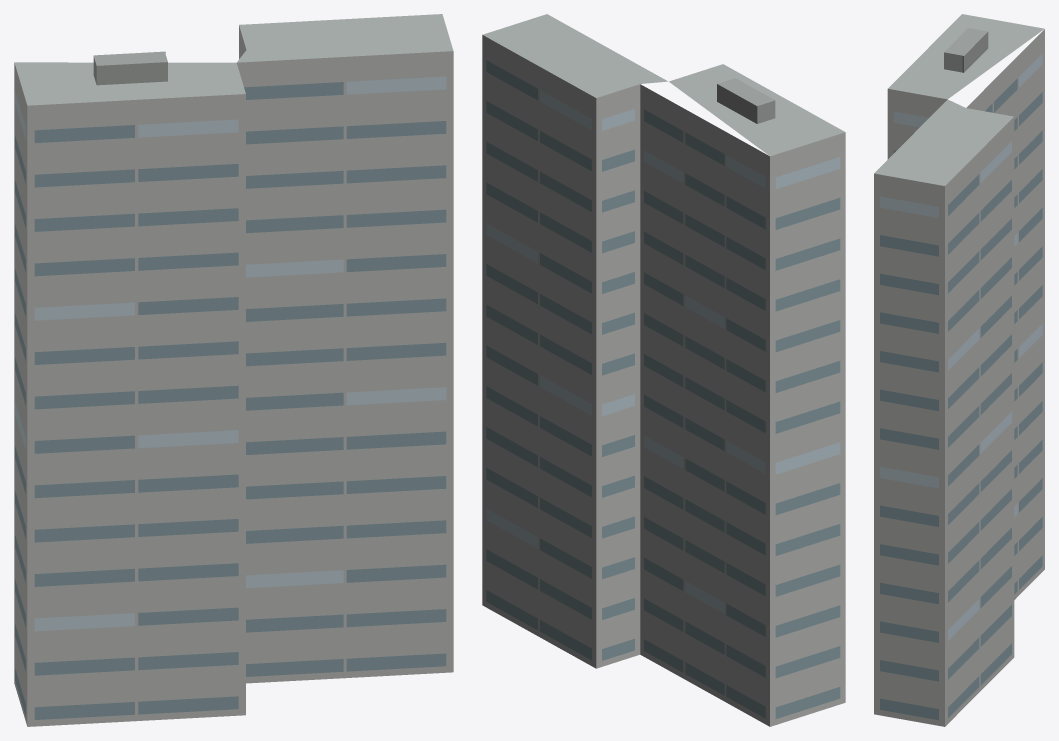
Rendered from fallback-jamsil-els-145.glb.
3 renders of one model, left to right at view 1: azimuth 30°, elevation 25°; view 2: azimuth 150°, elevation 25°; view 3: azimuth 270°, elevation 25°, orthographic. The views are drawn at different scales.
Visible parts, largest first — view 1: fallback-jamsil-els-145; view 2: fallback-jamsil-els-145; view 3: fallback-jamsil-els-145.
Boxes of the visible parts, bbox=[...] form: fallback-jamsil-els-145: bbox=[14, 14, 453, 726]; fallback-jamsil-els-145: bbox=[482, 14, 845, 726]; fallback-jamsil-els-145: bbox=[874, 14, 1044, 726].
Size of the model in its own units: 52.29 by 79 by 21.94.
